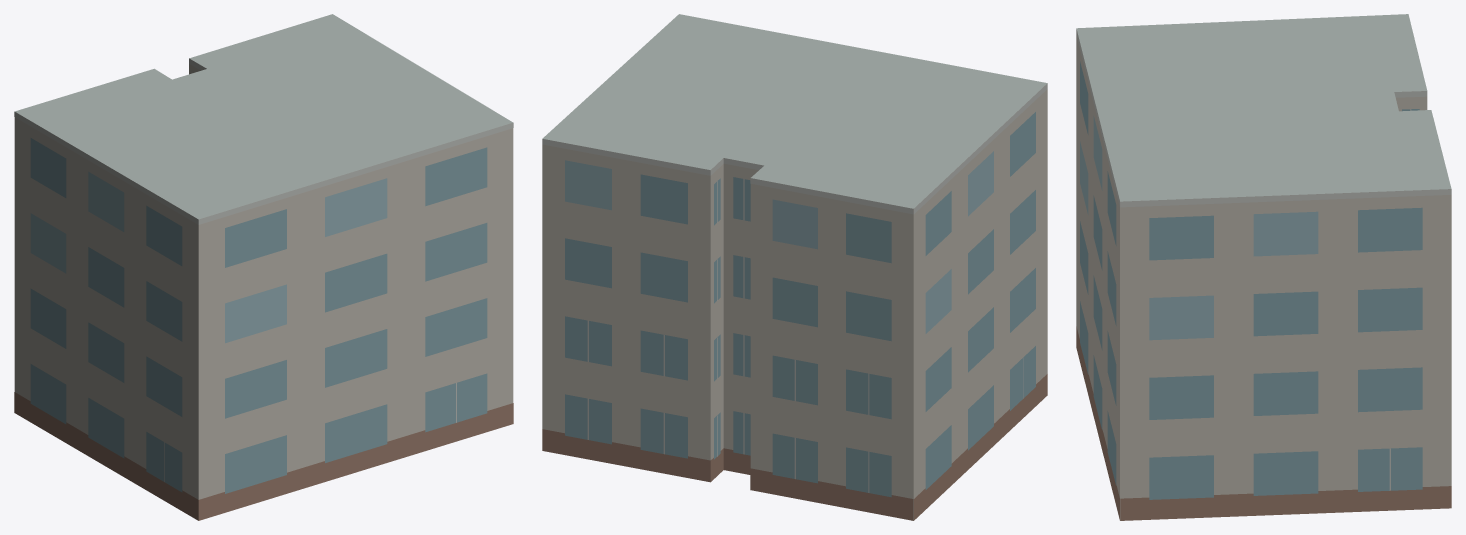
File: survey-upis-32731941.glb
The picture shows the model from 3 angles, left to right: view 1: azimuth 30°, elevation 25°; view 2: azimuth 150°, elevation 25°; view 3: azimuth 270°, elevation 25°; orthographic projection. The views are drawn at different scales.
Visible parts, largest first — view 1: survey-upis-32731941.tmp; view 2: survey-upis-32731941.tmp; view 3: survey-upis-32731941.tmp.
Part boxes in pixels (x1,y1,x2,y2): survey-upis-32731941.tmp: (14, 14, 513, 520); survey-upis-32731941.tmp: (542, 14, 1047, 520); survey-upis-32731941.tmp: (1076, 14, 1451, 520).
Size of the model in its own units: 16.89 by 13.4 by 14.28.
